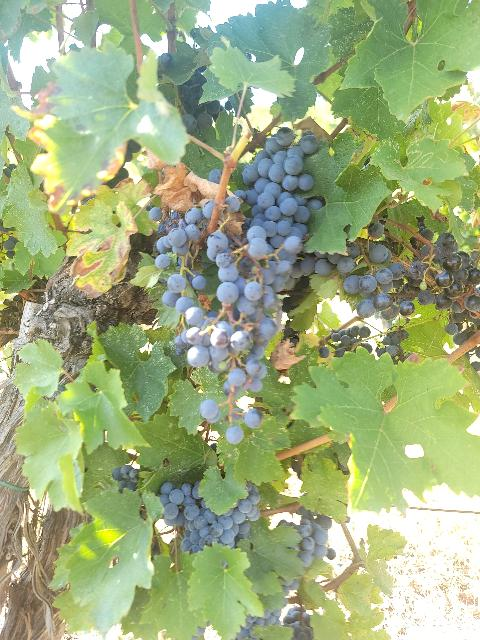grapes: (185, 228, 278, 441), (243, 128, 324, 248), (401, 232, 480, 341), (159, 481, 260, 554)
